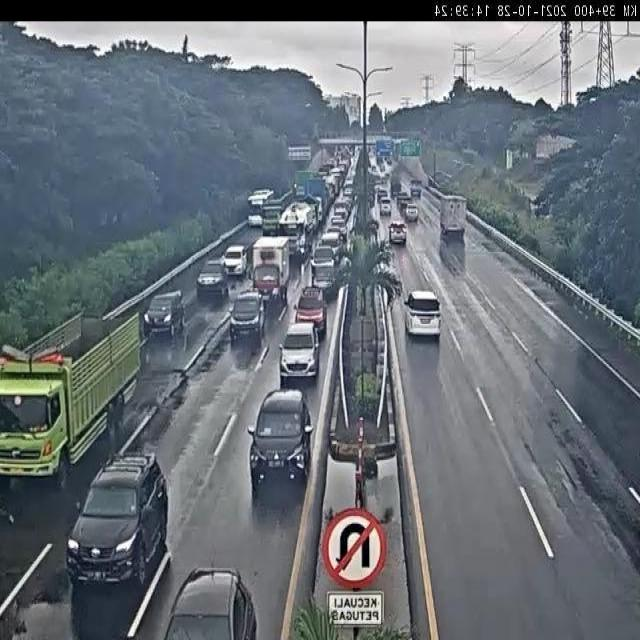Bus: (247, 187, 274, 229)
Car: (65, 450, 171, 590), (161, 567, 257, 636), (248, 388, 313, 483), (277, 321, 321, 384), (228, 293, 266, 346), (403, 288, 443, 338), (145, 292, 185, 341), (294, 288, 327, 336), (196, 260, 227, 297), (310, 245, 337, 275), (223, 245, 248, 276), (311, 260, 335, 292), (318, 232, 342, 264), (389, 222, 407, 244), (406, 205, 418, 222), (400, 198, 413, 212), (396, 191, 408, 204)
Truck: (0, 305, 144, 492), (249, 232, 292, 308), (278, 201, 316, 258), (261, 187, 295, 239), (301, 176, 328, 224), (439, 195, 466, 240), (294, 169, 311, 202), (409, 178, 423, 198), (390, 174, 402, 196)
Van: (380, 196, 392, 218)
